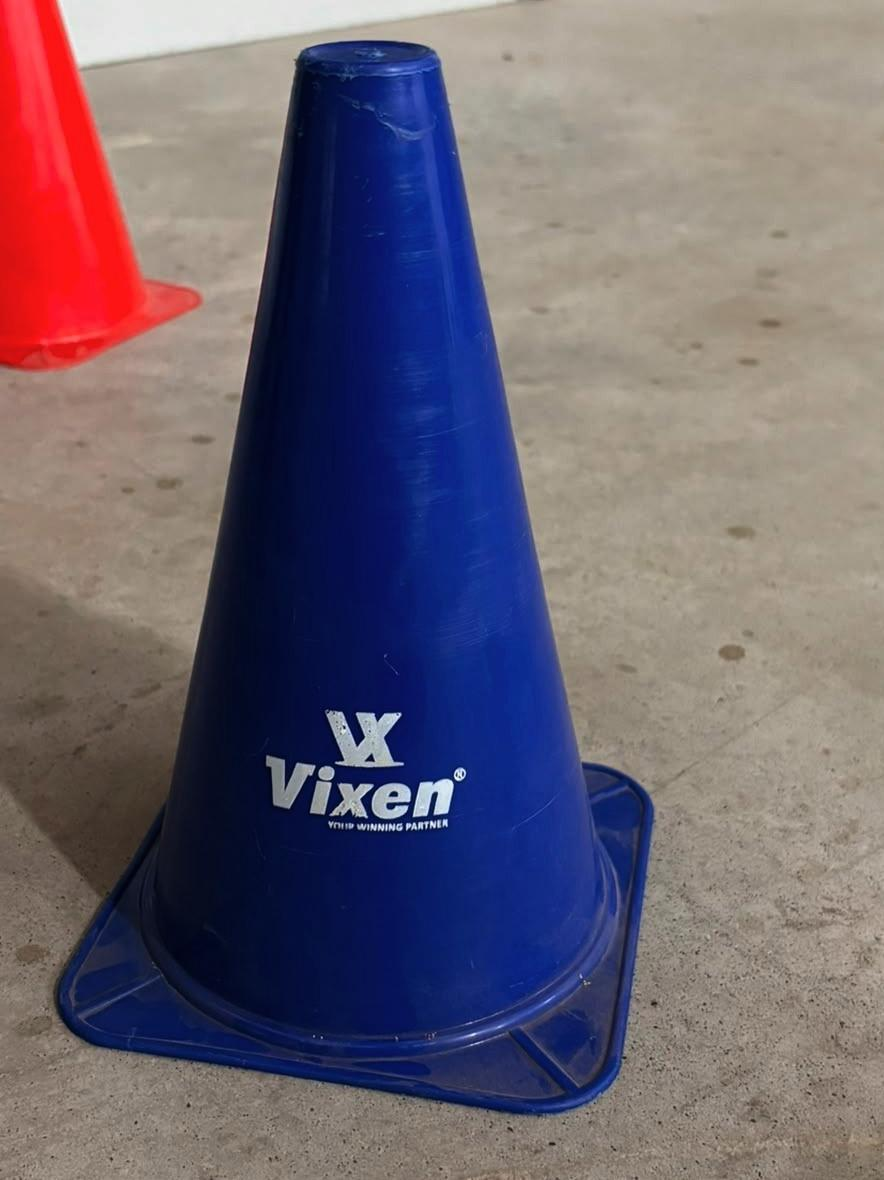0 cone: (59, 42, 651, 1111), (0, 0, 197, 370)
